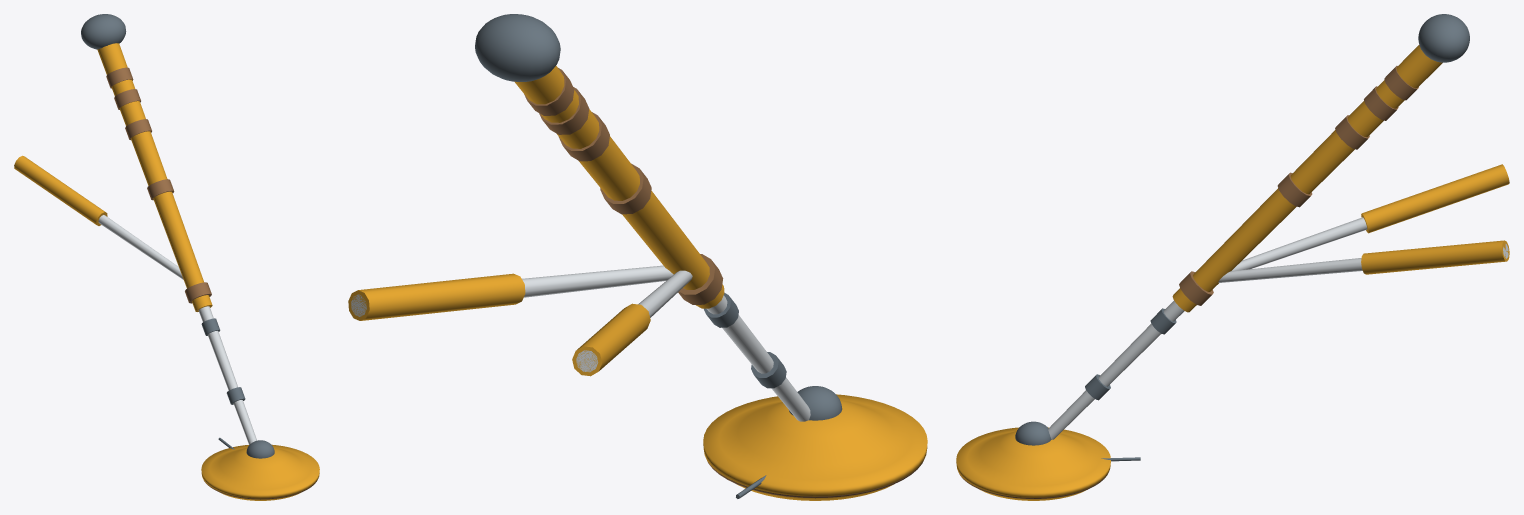
The model's file is eagle_descent.gear_rear.glb.
3 views of the same model, side by side, from view 1: azimuth 30°, elevation 25°; view 2: azimuth 150°, elevation 25°; view 3: azimuth 270°, elevation 25° (orthographic). The views are drawn at different scales.
Visible parts, largest first — view 1: eagle_descent.gear_rear.main_strut.mesh, eagle_descent.gear_rear.main_strut.footpad.mesh, eagle_descent.gear_rear.brace_left.mesh, eagle_descent.gear_rear.mesh; view 2: eagle_descent.gear_rear.main_strut.footpad.mesh, eagle_descent.gear_rear.main_strut.mesh, eagle_descent.gear_rear.brace_right.mesh, eagle_descent.gear_rear.mesh, eagle_descent.gear_rear.brace_left.mesh; view 3: eagle_descent.gear_rear.main_strut.mesh, eagle_descent.gear_rear.main_strut.footpad.mesh, eagle_descent.gear_rear.brace_right.mesh, eagle_descent.gear_rear.brace_left.mesh, eagle_descent.gear_rear.mesh.
Part boxes in pixels (x1,y1,x2,y2): eagle_descent.gear_rear.main_strut.mesh: (97, 43, 256, 444); eagle_descent.gear_rear.main_strut.footpad.mesh: (201, 440, 319, 500); eagle_descent.gear_rear.brace_left.mesh: (14, 155, 183, 279); eagle_descent.gear_rear.mesh: (81, 14, 126, 49); eagle_descent.gear_rear.main_strut.footpad.mesh: (703, 386, 927, 500); eagle_descent.gear_rear.main_strut.mesh: (514, 65, 810, 421); eagle_descent.gear_rear.brace_right.mesh: (348, 265, 673, 320); eagle_descent.gear_rear.mesh: (475, 14, 560, 81); eagle_descent.gear_rear.brace_left.mesh: (572, 270, 692, 376); eagle_descent.gear_rear.main_strut.mesh: (1048, 45, 1442, 439); eagle_descent.gear_rear.main_strut.footpad.mesh: (956, 421, 1110, 500); eagle_descent.gear_rear.brace_right.mesh: (1218, 240, 1509, 282); eagle_descent.gear_rear.brace_left.mesh: (1232, 164, 1509, 270); eagle_descent.gear_rear.mesh: (1418, 14, 1469, 62).
Size of the model in its own units: 1.25 by 3.12 by 3.41.
